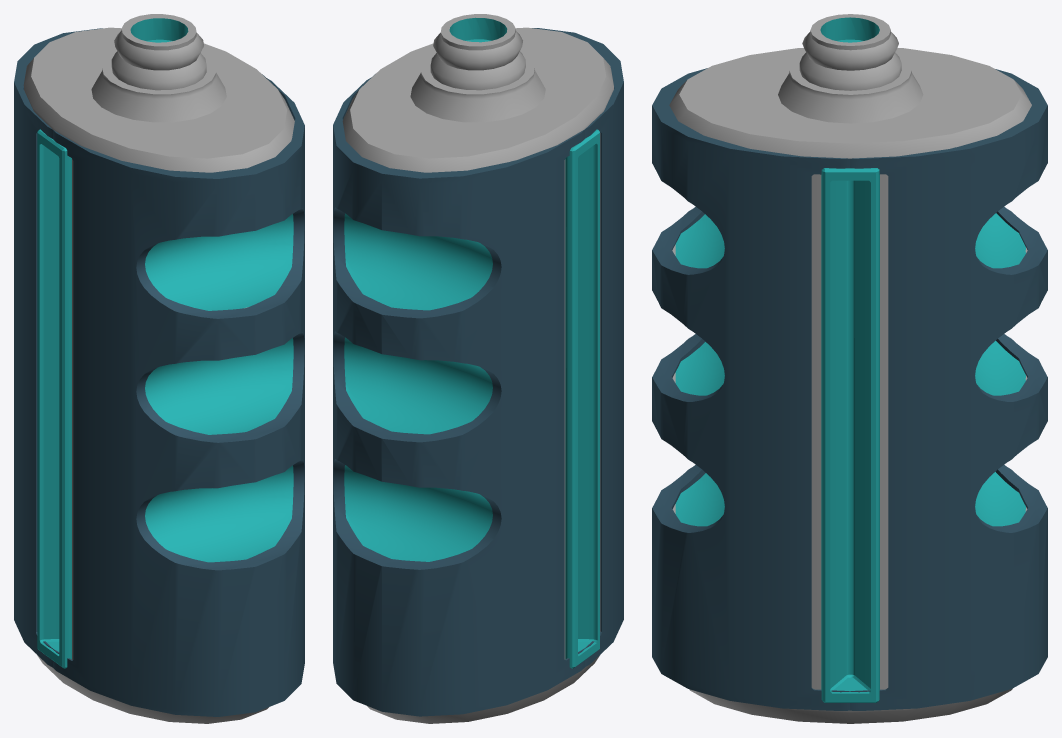
The model's file is bottle sci fi 2.fbx.
3 renders of one model, left to right at view 1: azimuth 30°, elevation 25°; view 2: azimuth 150°, elevation 25°; view 3: azimuth 270°, elevation 25°, orthographic. The views are drawn at different scales.
Visible parts, largest first — view 1: pCylinder24; view 2: pCylinder24; view 3: pCylinder24.
Part boxes in pixels (x1,y1,x2,y2): pCylinder24: (14,14,304,723); pCylinder24: (333,14,623,723); pCylinder24: (652,14,1047,723).
Size of the model in its own units: 1.43 by 3.92 by 2.17.
